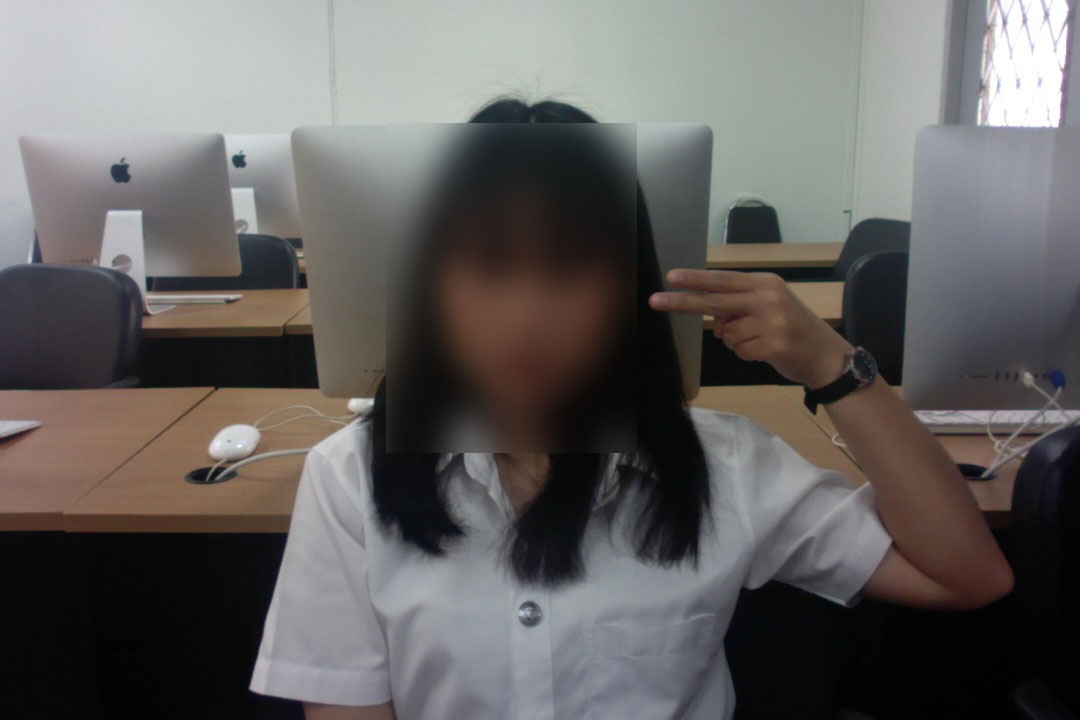hor: (637, 260, 856, 384)
